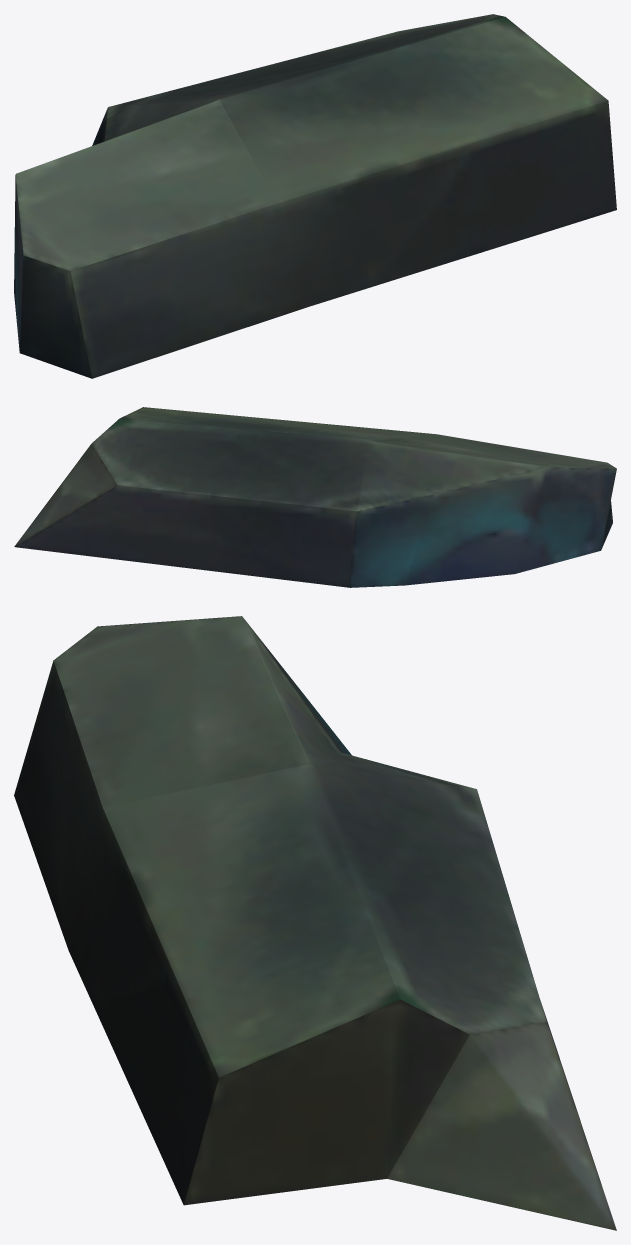
Rendered from MapObject_38.FBX.
The picture shows the model from 3 angles, top to bottom: view 1: azimuth 30°, elevation 25°; view 2: azimuth 150°, elevation 25°; view 3: azimuth 270°, elevation 25°; orthographic projection. The views are drawn at different scales.
Parts seen in each view (by area): view 1: polySurfaceMapGeoMesh218; view 2: polySurfaceMapGeoMesh218; view 3: polySurfaceMapGeoMesh218.
Part boxes in pixels (left/top/right/bottom): polySurfaceMapGeoMesh218: left=14, top=14, right=616, bottom=378; polySurfaceMapGeoMesh218: left=14, top=407, right=616, bottom=587; polySurfaceMapGeoMesh218: left=14, top=616, right=616, bottom=1230.
Bounding box in the file's own units: 202 × 46.78 × 119.
